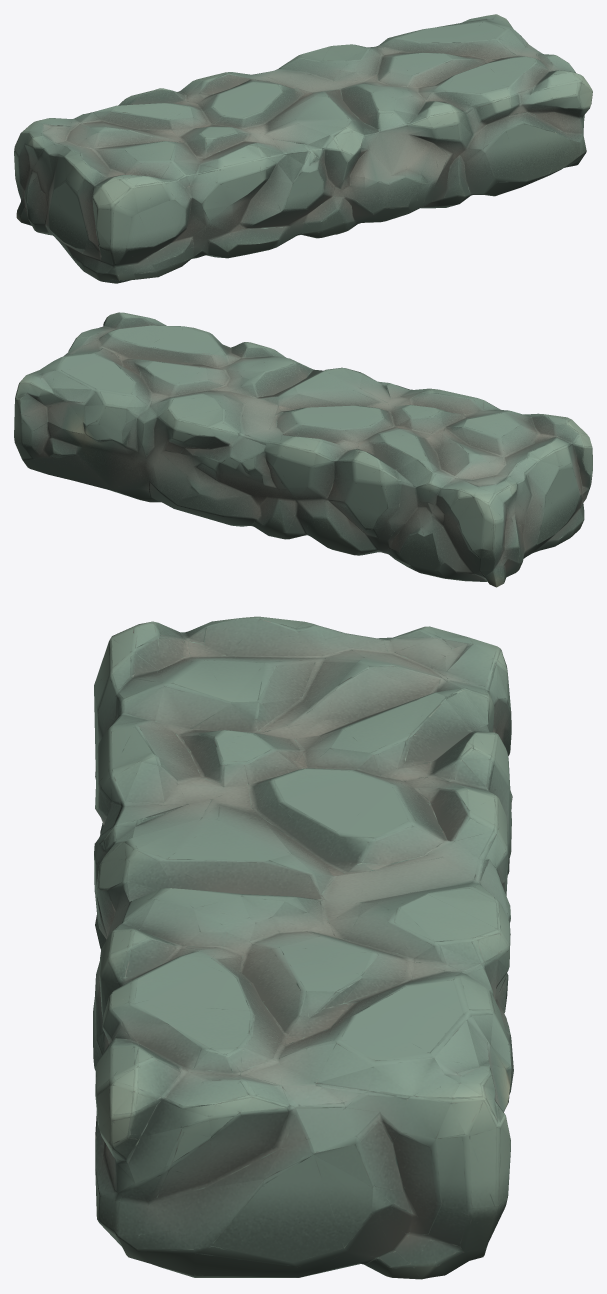
File: Platform 01.fbx
3 renders of one model, top to bottom at view 1: azimuth 30°, elevation 25°; view 2: azimuth 150°, elevation 25°; view 3: azimuth 270°, elevation 25°, orthographic. The views are drawn at different scales.
Visible parts, largest first — view 1: Platform.001; view 2: Platform.001; view 3: Platform.001.
Part boxes in pixels (box(x1,y1,x2,y2)): Platform.001: box(14, 14, 592, 283); Platform.001: box(14, 312, 592, 587); Platform.001: box(93, 616, 513, 1279).
Size of the model in its own units: 631 by 132 by 232.
1 material, 1 textured.
